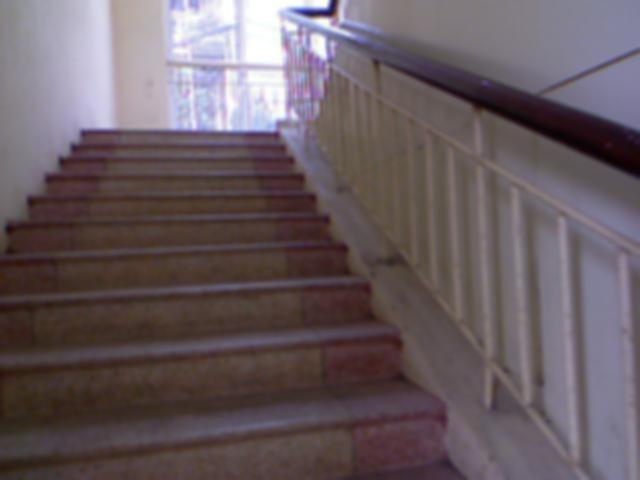Escaleras: (0, 132, 418, 479)
